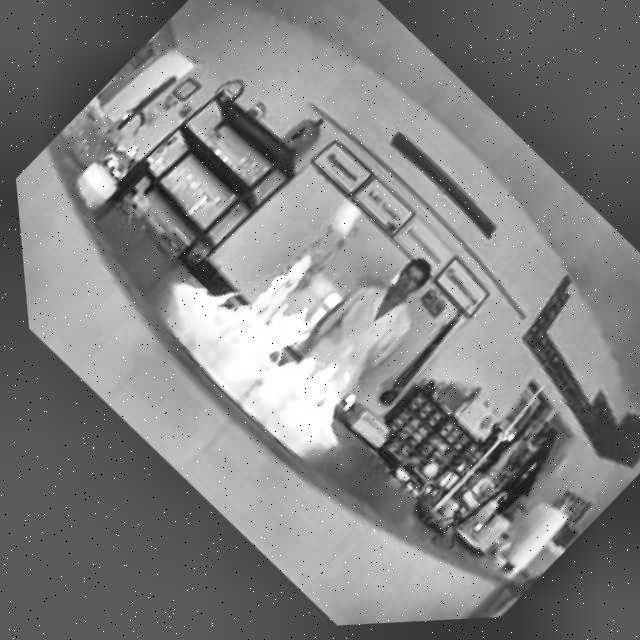Fire: (152, 189, 426, 462)
